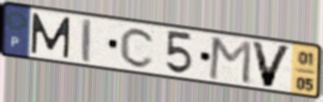5: (164, 29, 196, 76)
C: (119, 26, 158, 70)
I: (80, 16, 93, 65)
M: (207, 35, 254, 86), (30, 11, 73, 60)
V: (249, 39, 295, 90)
